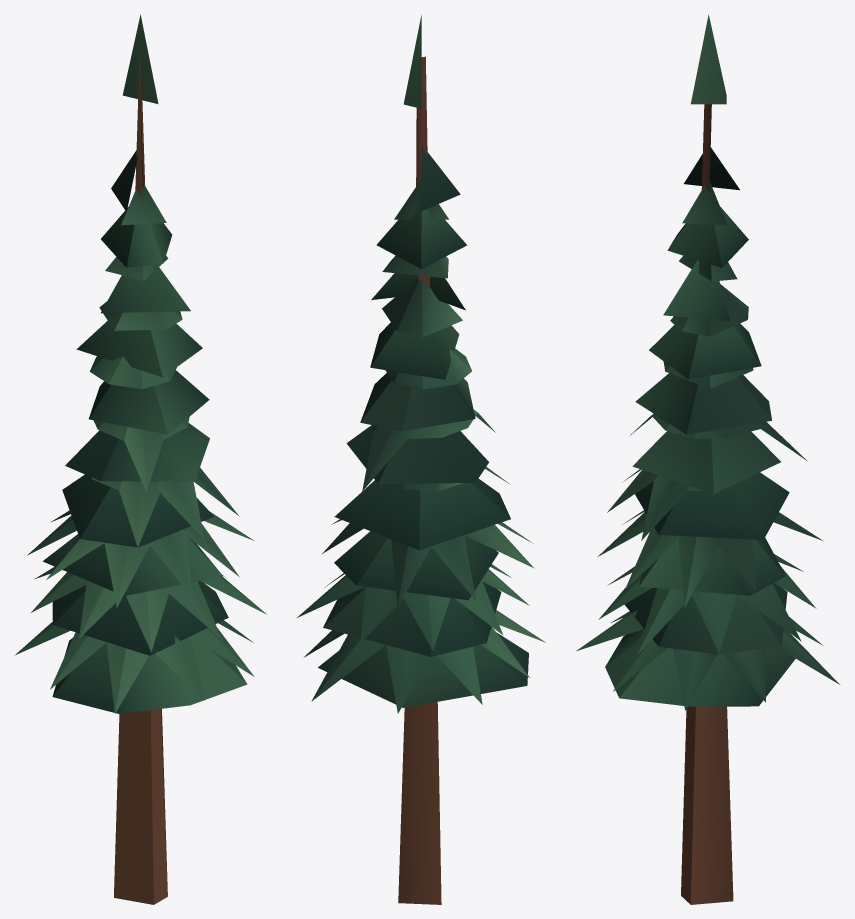
File: wf_pine-lod1.glb
3 views of the same model, side by side, from view 1: azimuth 30°, elevation 25°; view 2: azimuth 150°, elevation 25°; view 3: azimuth 270°, elevation 25° (orthographic).
Visible parts, largest first — view 1: wf_pine; view 2: wf_pine; view 3: wf_pine.
Boxes of the visible parts, <box> form: wf_pine: <box>14,14,266,904</box>; wf_pine: <box>297,15,545,904</box>; wf_pine: <box>576,15,839,904</box>.
Bounding box in the file's own units: 4.02 × 16.4 × 4.48.
